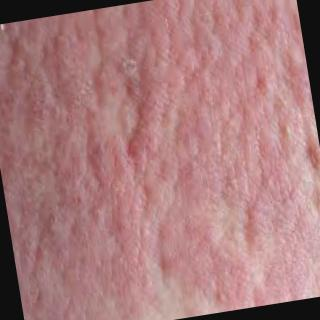urticaria: (240, 30, 302, 90), (82, 145, 156, 193), (24, 79, 94, 121), (100, 45, 154, 87), (216, 254, 263, 302), (119, 100, 172, 140)
